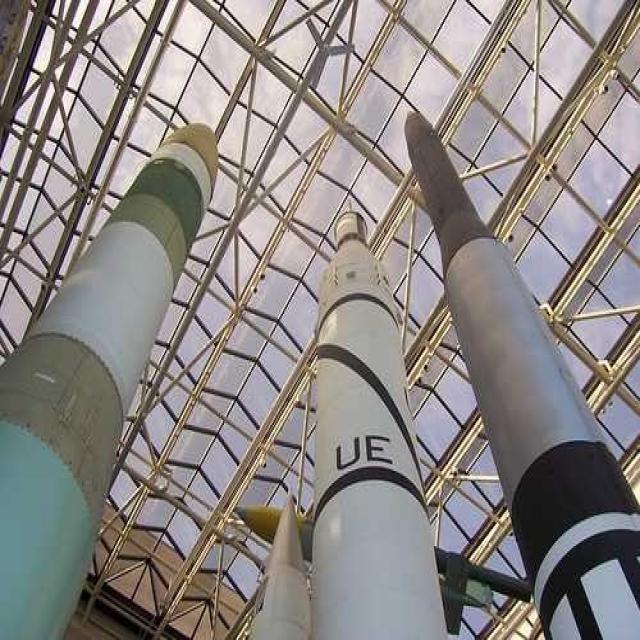missile: (400, 102, 640, 639), (0, 118, 223, 638), (285, 186, 451, 640)
